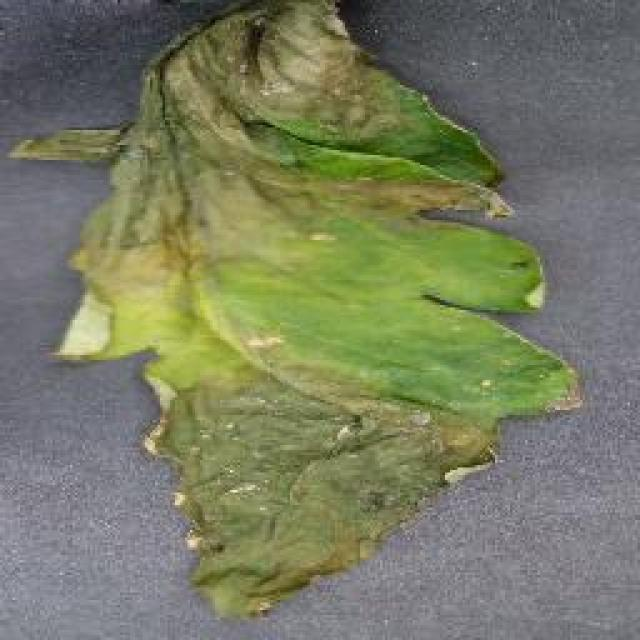Tomato_Late_Blight: (8, 0, 604, 616)
